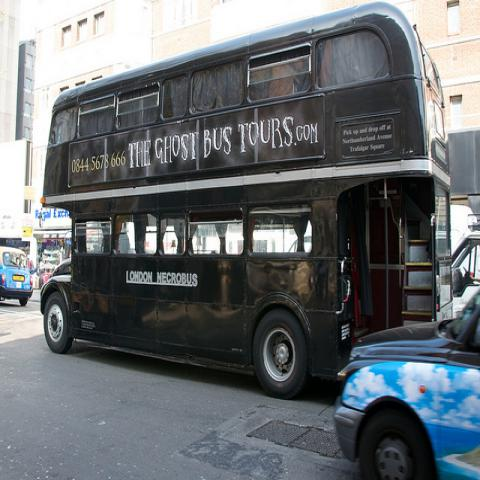bus: (35, 3, 452, 402)
car: (334, 287, 479, 474), (0, 246, 34, 308)
